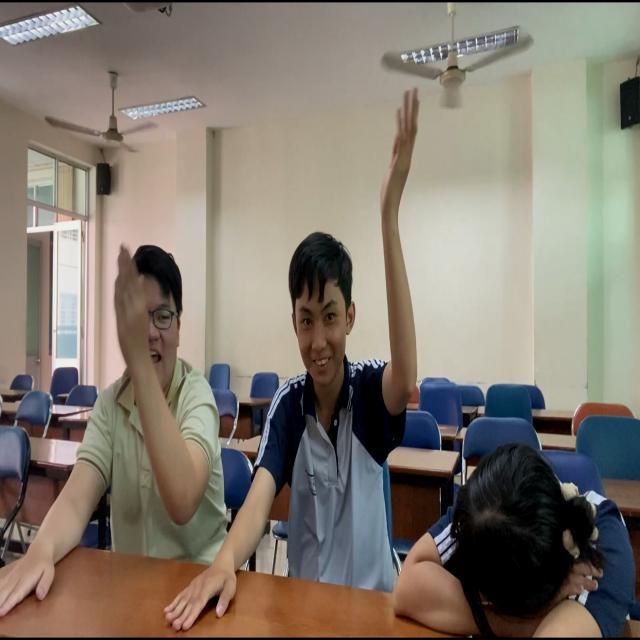raise_hand: (287, 87, 421, 587), (67, 233, 225, 571)
sleep: (392, 444, 640, 640)
